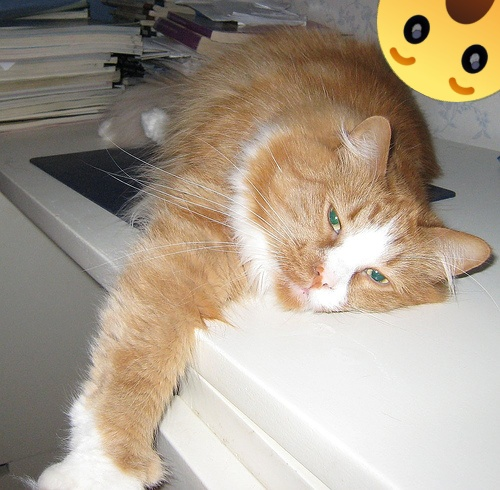wow: (377, 0, 500, 102)
